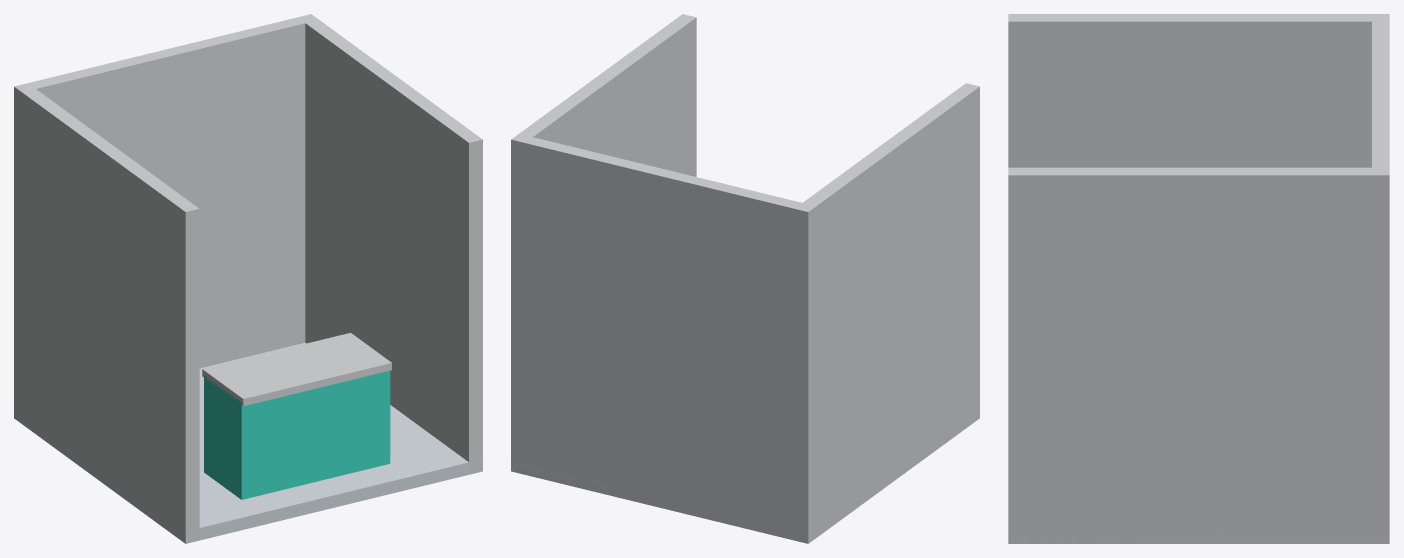
The picture shows the model from 3 angles, left to right: view 1: azimuth 30°, elevation 25°; view 2: azimuth 150°, elevation 25°; view 3: azimuth 270°, elevation 25°; orthographic projection. The views are drawn at different scales.
Parts seen in each view (by area): view 1: Exhibition Booth Concept; view 2: Exhibition Booth Concept; view 3: Exhibition Booth Concept.
Part boxes in pixels (x1,y1,x2,y2): Exhibition Booth Concept: (14,14,482,543); Exhibition Booth Concept: (511,14,979,543); Exhibition Booth Concept: (1008,14,1389,543).
Bounding box in the file's own units: 3 × 3.2 × 3.
